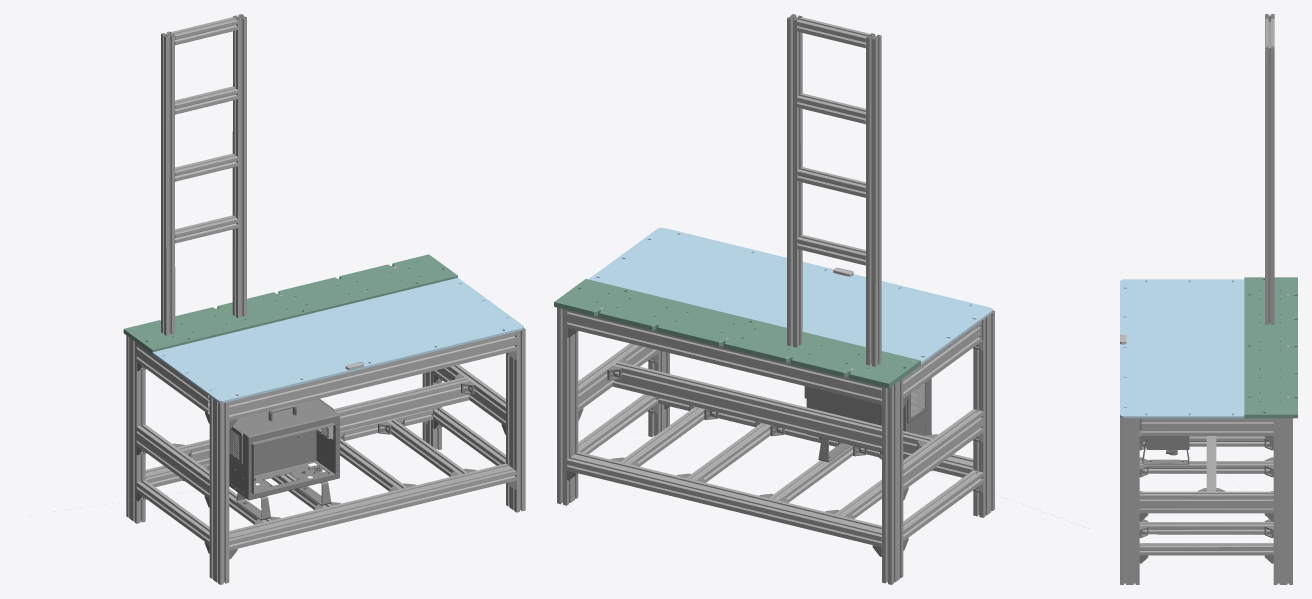
File: cocohrip_visual.dae
3 renders of one model, left to right at view 1: azimuth 30°, elevation 25°; view 2: azimuth 150°, elevation 25°; view 3: azimuth 270°, elevation 25°, orthographic. The views are drawn at different scales.
Parts seen in each view (by area): view 1: node73, node80, node78, node9, node6, node67, node68, node12, node58, node11, node14, node55 (+12 smaller); view 2: node73, node78, node58, node10, node7, node67, node68, node14, node13, node12, node80, node55 (+14 smaller); view 3: node73, node78, node11, node13, node56, node68, node15, node0, node2, node4, node80, node5 (+2 smaller).
Part boxes in pixels (x1=…): node73: x1=152, y1=278, x2=523, y2=403; node80: x1=229, y1=398, x2=339, y2=520; node78: x1=123, y1=254, x2=457, y2=353; node9: x1=229, y1=463, x2=516, y2=550; node6: x1=229, y1=332, x2=516, y2=420; node67: x1=161, y1=31, x2=175, y2=335; node68: x1=232, y1=14, x2=246, y2=318; node12: x1=209, y1=396, x2=229, y2=584; node58: x1=177, y1=377, x2=469, y2=465; node11: x1=506, y1=328, x2=525, y2=512; node14: x1=126, y1=335, x2=145, y2=523; node55: x1=136, y1=424, x2=209, y2=498; node73: x1=588, y1=227, x2=992, y2=364; node78: x1=554, y1=279, x2=920, y2=388; node58: x1=612, y1=361, x2=932, y2=457; node10: x1=567, y1=452, x2=881, y2=547; node7: x1=567, y1=310, x2=881, y2=404; node67: x1=866, y1=33, x2=881, y2=366; node68: x1=787, y1=14, x2=802, y2=347; node14: x1=882, y1=378, x2=903, y2=584; node13: x1=557, y1=307, x2=578, y2=505; node12: x1=973, y1=310, x2=994, y2=517; node80: x1=804, y1=378, x2=931, y2=462; node55: x1=903, y1=409, x2=983, y2=490; node73: x1=1120, y1=279, x2=1244, y2=418; node78: x1=1244, y1=277, x2=1297, y2=418; node11: x1=1120, y1=417, x2=1139, y2=584; node13: x1=1273, y1=418, x2=1292, y2=584; node56: x1=1139, y1=491, x2=1273, y2=513; node68: x1=1265, y1=46, x2=1274, y2=324; node15: x1=1141, y1=418, x2=1275, y2=435; node0: x1=1139, y1=543, x2=1273, y2=555; node2: x1=1139, y1=522, x2=1273, y2=534; node4: x1=1139, y1=461, x2=1273, y2=473; node80: x1=1142, y1=436, x2=1189, y2=464; node5: x1=1143, y1=436, x2=1269, y2=446.
Size of the model in its own units: 2.22 by 0.822 by 2.27.
